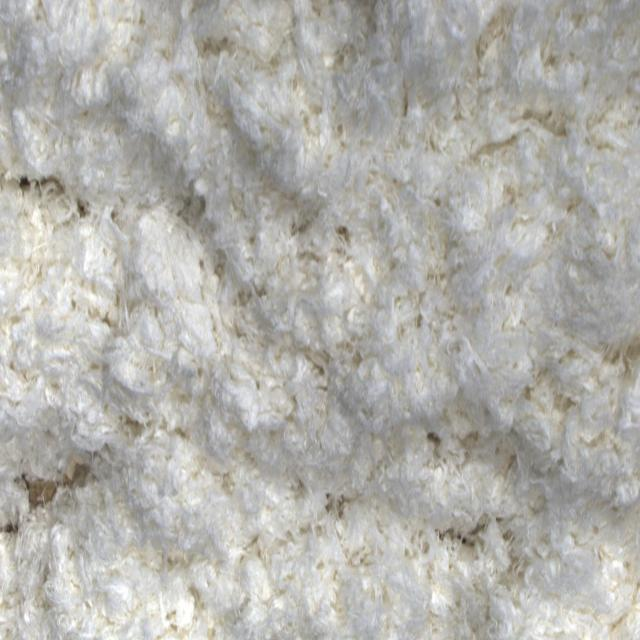dust: (13, 456, 91, 508)
